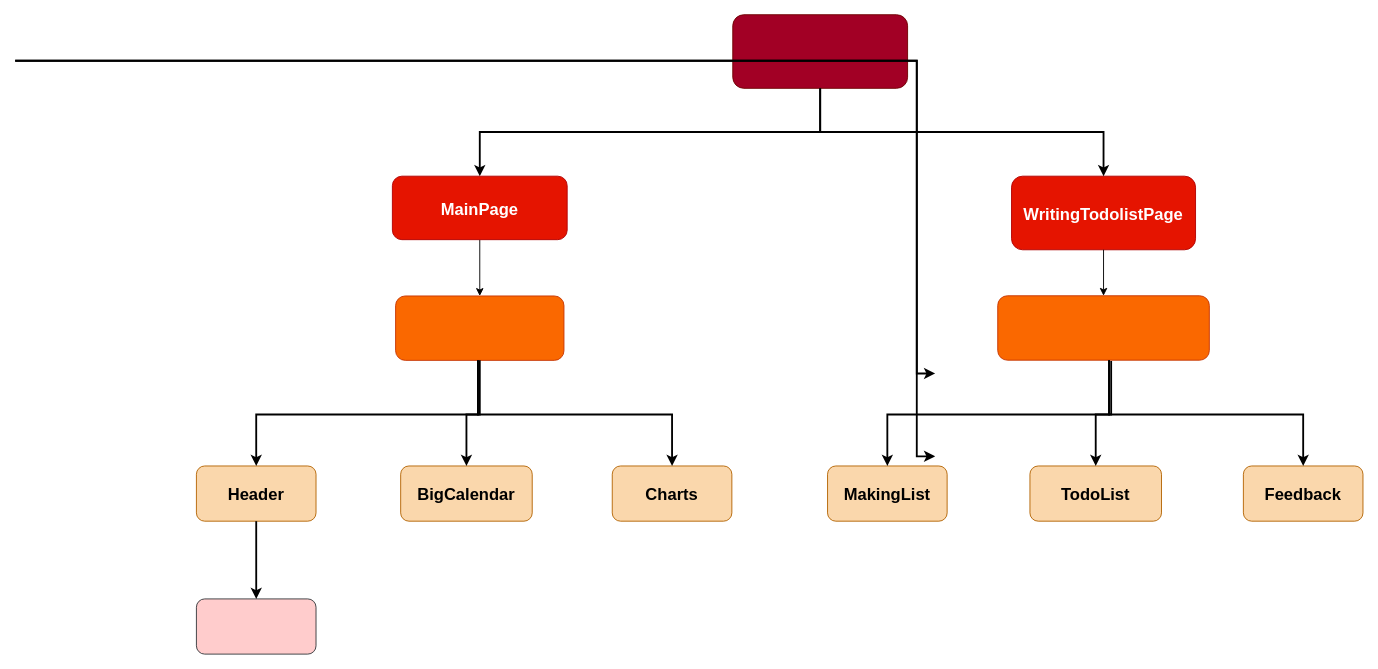
This 1378x669 diagram has some shape labels left out. The shapes that lost their labels are listed below. From the top down, each one's centre as x and y in pixels, then its label:
At pixel 820 51: "App".
At pixel 479 327: "MainTemplate".
At pixel 1103 327: "WritingPageTemplate".
At pixel 256 626: "Button".
